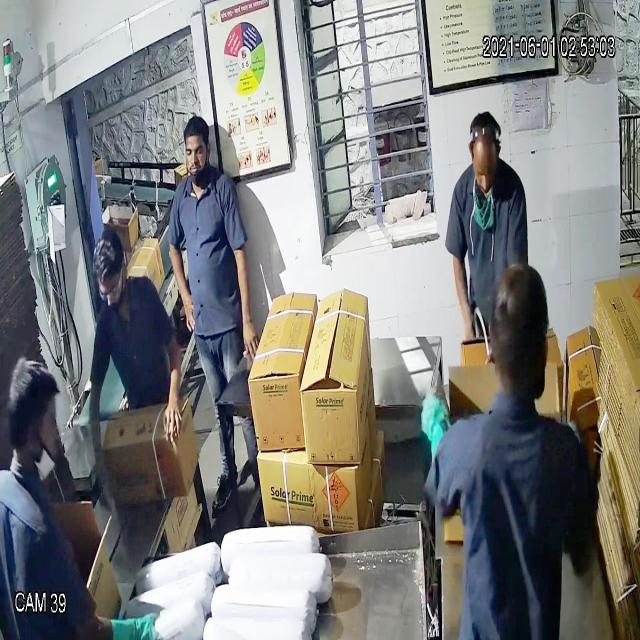glasses: (89, 270, 129, 307)
